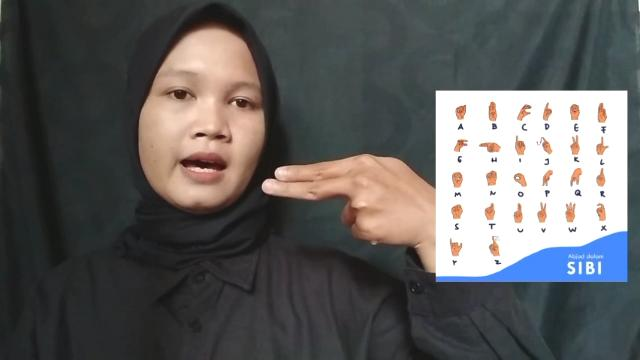H: (260, 154, 434, 250)
